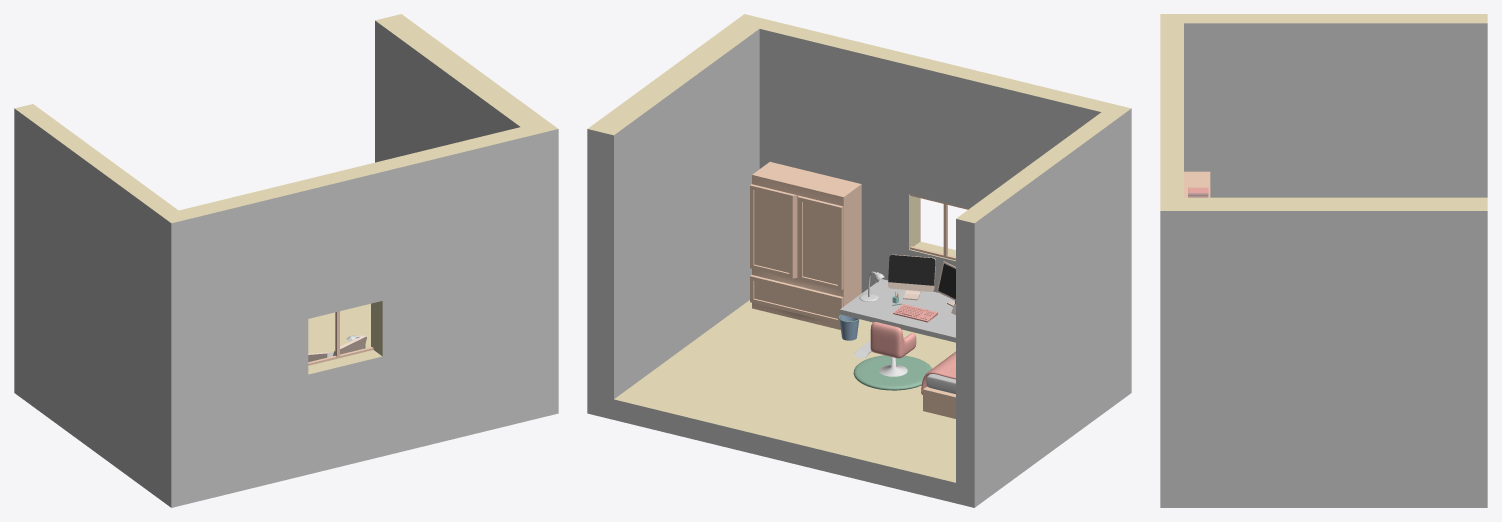
Rendered from Study_Room_5.glb.
The picture shows the model from 3 angles, left to right: view 1: azimuth 30°, elevation 25°; view 2: azimuth 150°, elevation 25°; view 3: azimuth 270°, elevation 25°; orthographic projection. The views are drawn at different scales.
Visible parts, largest first — view 1: Room; view 2: Room, Closet, Table Top, Rug, Desktop Screen, Chair, Bedframe; view 3: Room, Shelf.001.
Boxes of the visible parts, left/top/right/bottom form: Room: left=14, top=14, right=558, bottom=507; Room: left=587, top=14, right=1131, bottom=507; Closet: left=750, top=162, right=861, bottom=329; Table Top: left=840, top=279, right=955, bottom=342; Rug: left=853, top=355, right=931, bottom=390; Desktop Screen: left=888, top=255, right=935, bottom=285; Chair: left=870, top=322, right=916, bottom=358; Bedframe: left=923, top=386, right=955, bottom=418; Room: left=1160, top=14, right=1487, bottom=507; Shelf.001: left=1184, top=171, right=1210, bottom=197.
Size of the model in its own units: 27.72 by 19.48 by 19.48.
